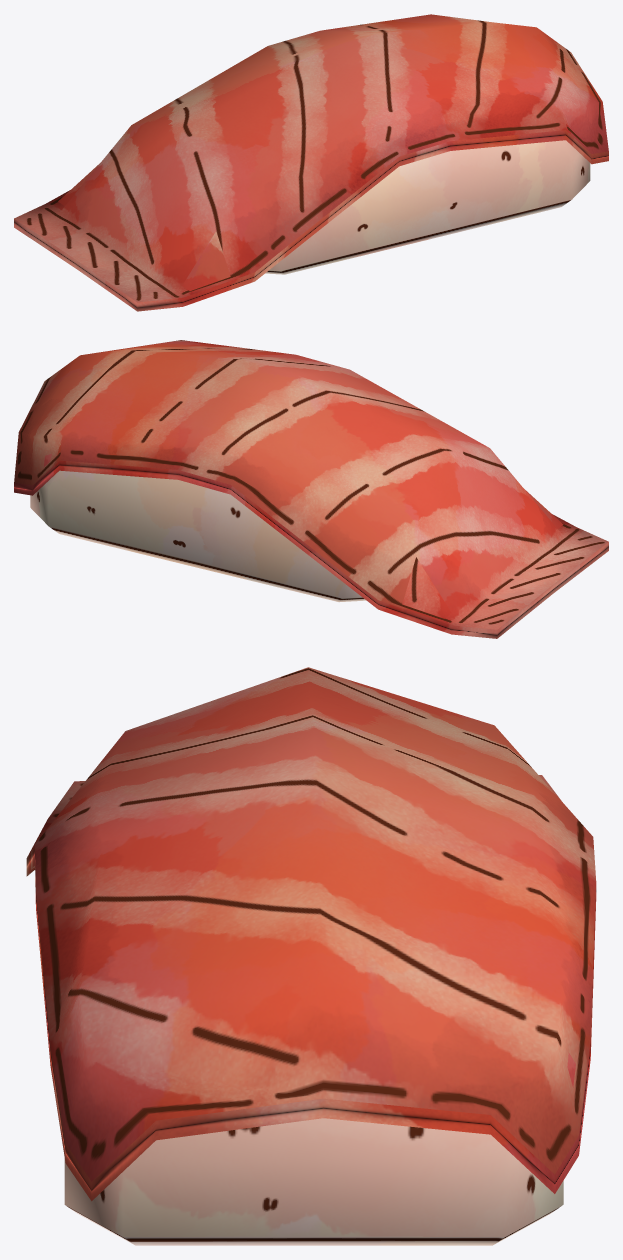
The model's file is nigiri tuna.fbx.
3 renders of one model, top to bottom at view 1: azimuth 30°, elevation 25°; view 2: azimuth 150°, elevation 25°; view 3: azimuth 270°, elevation 25°, orthographic. The views are drawn at different scales.
Visible parts, largest first — view 1: nigiri_tuna; view 2: nigiri_tuna; view 3: nigiri_tuna.
Part boxes in pixels (x1,y1,x2,y2): nigiri_tuna: (14,14,608,311); nigiri_tuna: (14,340,608,638); nigiri_tuna: (26,667,596,1245).
Bounding box in the file's own units: 12.95 × 3.94 × 6.35.
